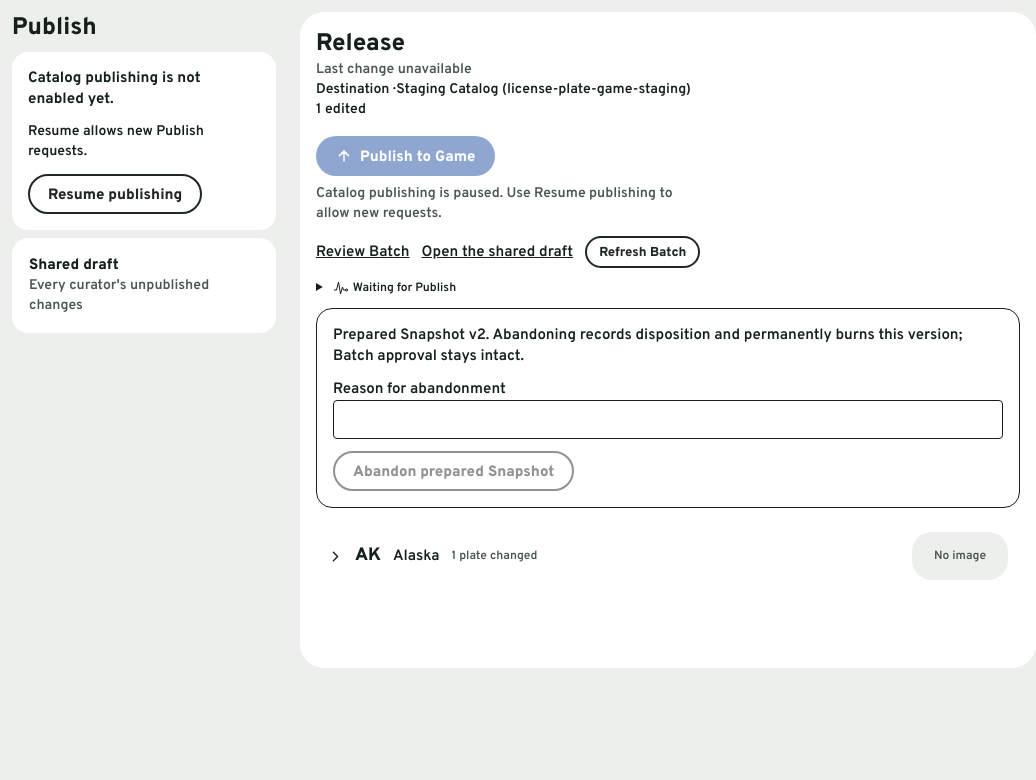
Test case: abandon refusal explains the live-run race
This screenshot has width=1036, height=780.
Type "Choose B" into the field labelled "Reason for abandonment".
click(668, 420); type("Choose B")  # box [333,400,1003,439]
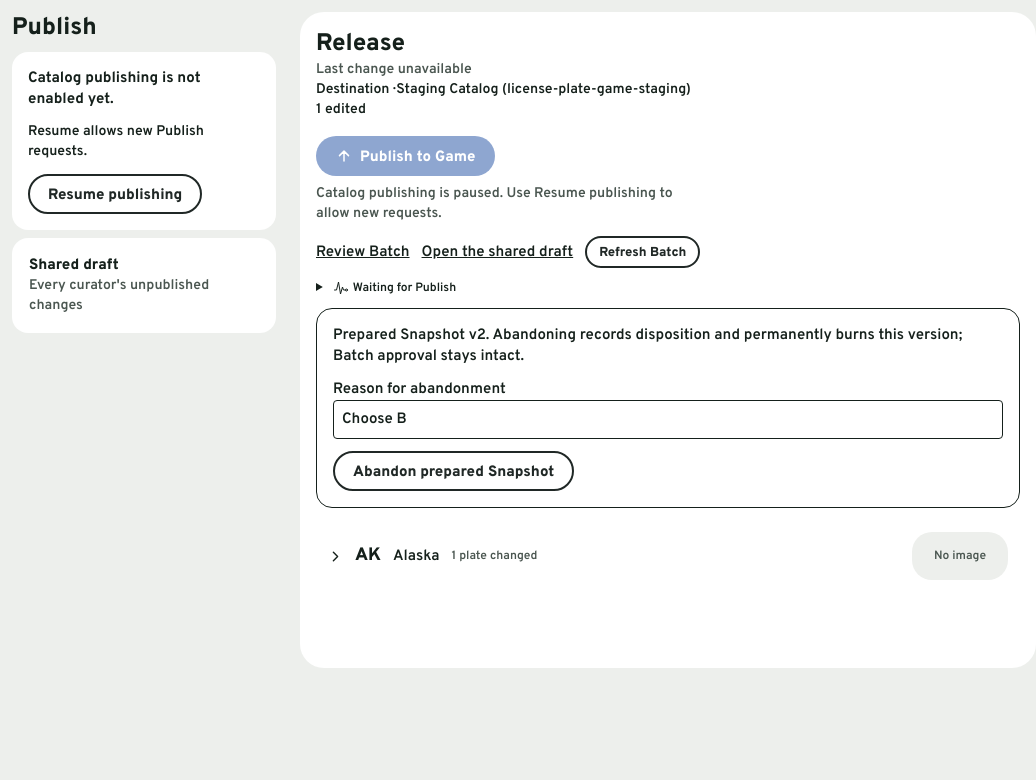
Click the button "Abandon prepared Snapshot".
click(454, 471)  # box [333,451,574,491]
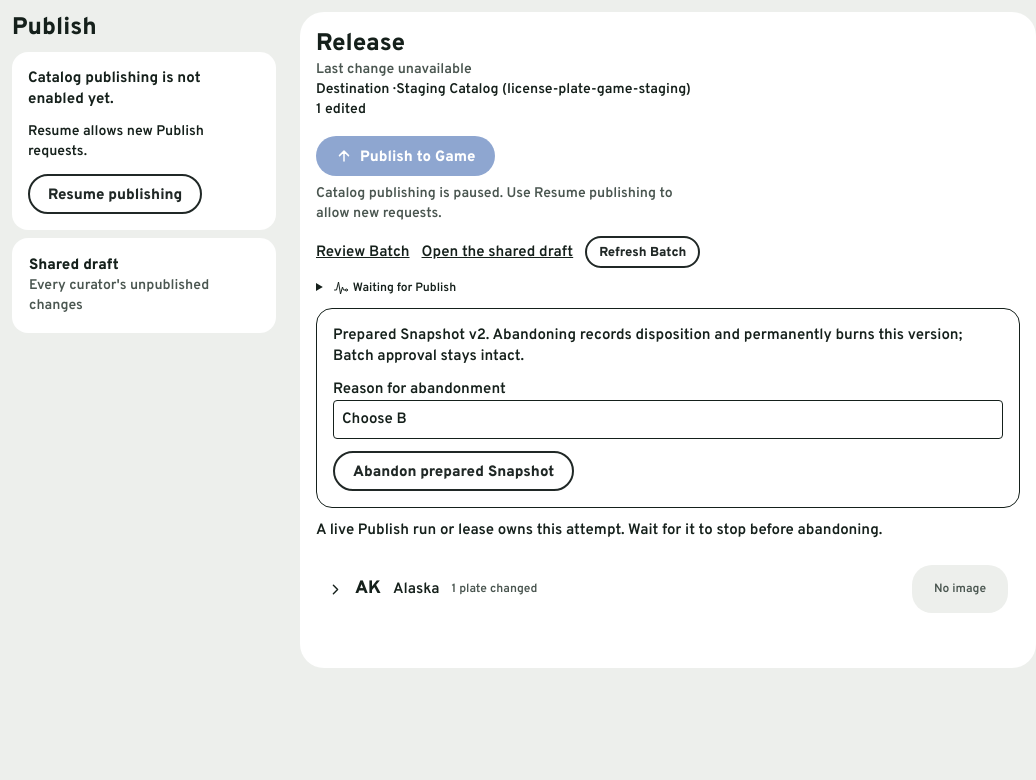
Expected: the text "A live Publish run or lease owns this attempt" is shown, [316,521,882,540]
